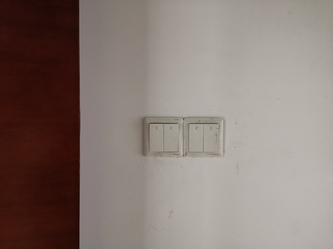switch: (202, 122, 223, 155), (148, 120, 166, 156), (188, 122, 207, 154), (162, 122, 181, 153)
